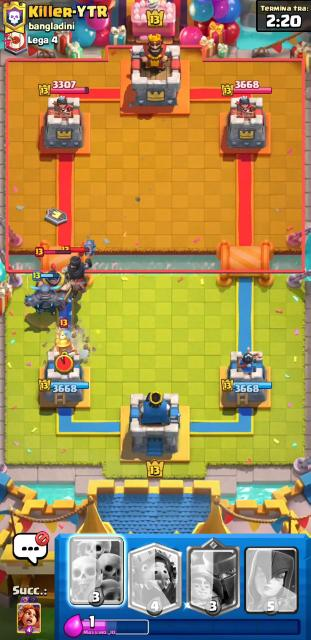ally_melee: (25, 271, 68, 318)
enemy_melee: (33, 249, 73, 304), (61, 247, 94, 299), (55, 319, 78, 352)
